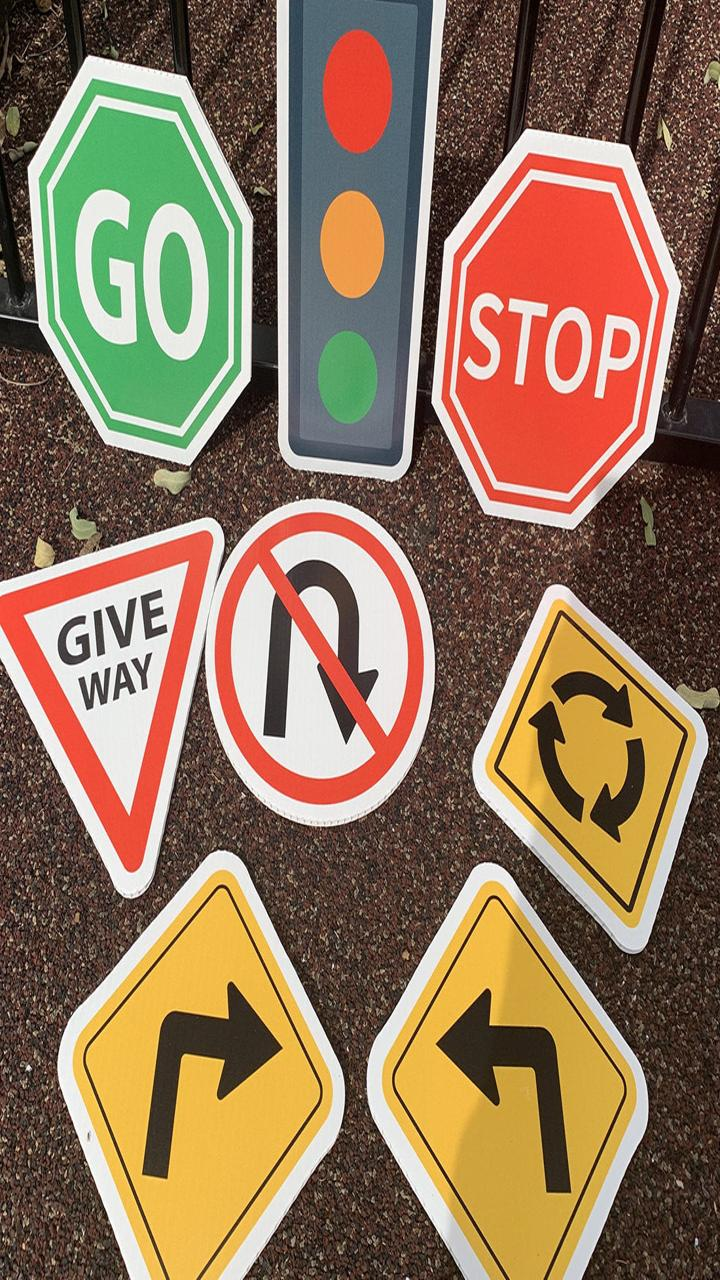Traffic sign: (31, 850, 356, 1280), (344, 860, 660, 1280), (215, 1, 431, 483), (16, 49, 263, 459), (425, 120, 672, 530), (473, 539, 720, 949), (203, 473, 430, 883), (1, 497, 227, 907)
